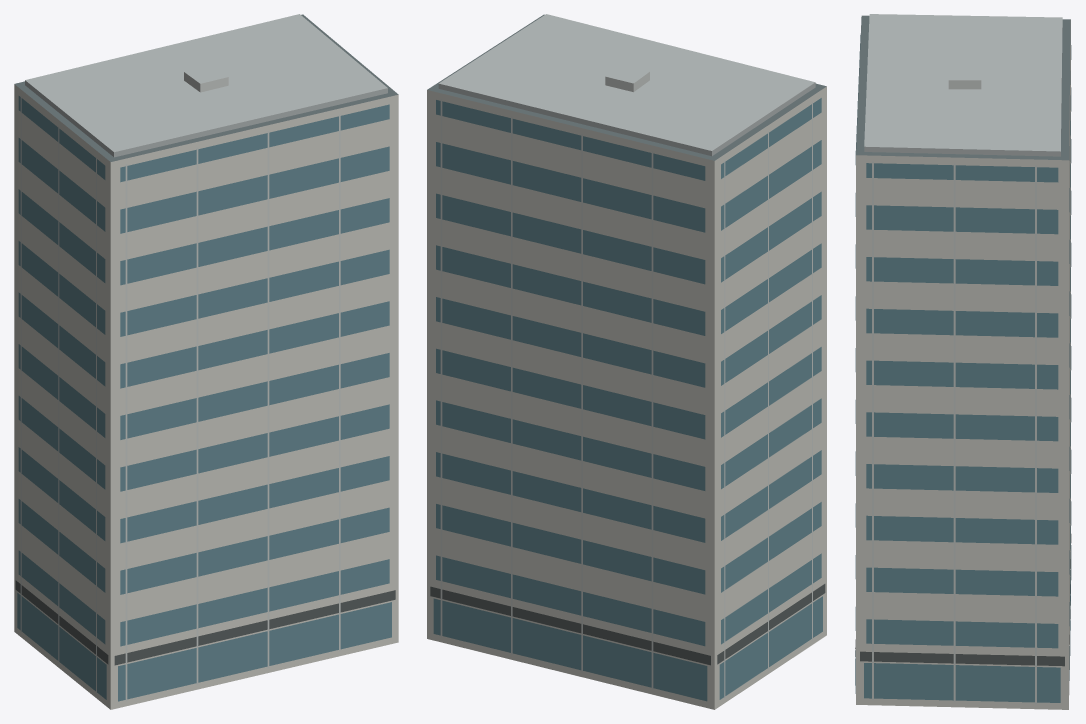
The picture shows the model from 3 angles, left to right: view 1: azimuth 30°, elevation 25°; view 2: azimuth 150°, elevation 25°; view 3: azimuth 270°, elevation 25°; orthographic projection.
Visible parts, largest first — view 1: apoc-coffee-hakata; view 2: apoc-coffee-hakata; view 3: apoc-coffee-hakata.
Boxes of the visible parts, x1,y1,x2,y2 form: apoc-coffee-hakata: (14, 14, 398, 709); apoc-coffee-hakata: (427, 14, 826, 709); apoc-coffee-hakata: (855, 14, 1071, 709).
Bounding box in the file's own units: 21.04 × 38.12 × 13.25.
